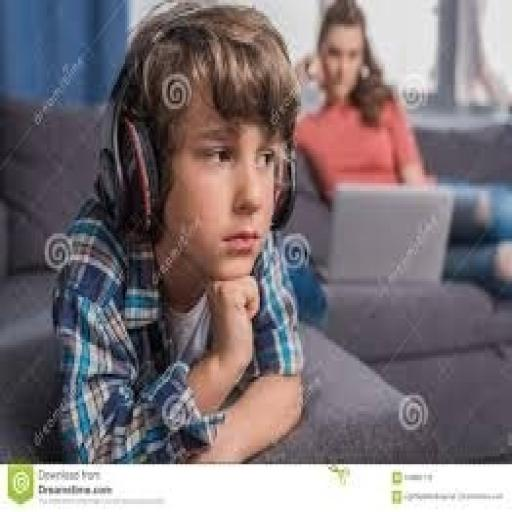listening_to_music: (47, 0, 313, 464)
